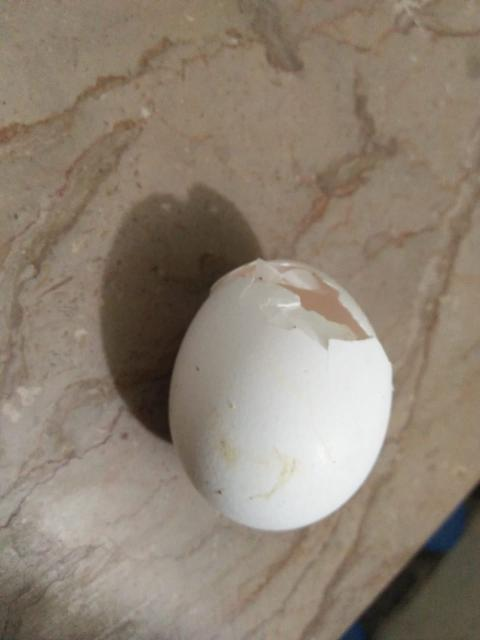Roto: (169, 258, 394, 532)
